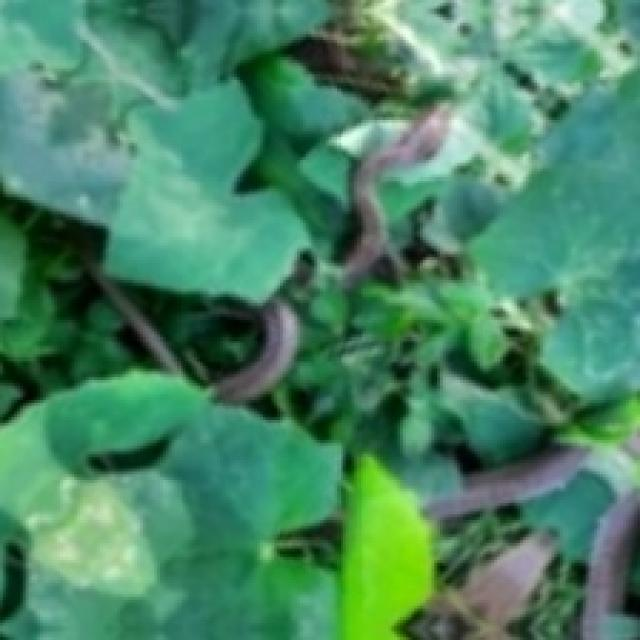paradise tree snake: (340, 106, 449, 286)
